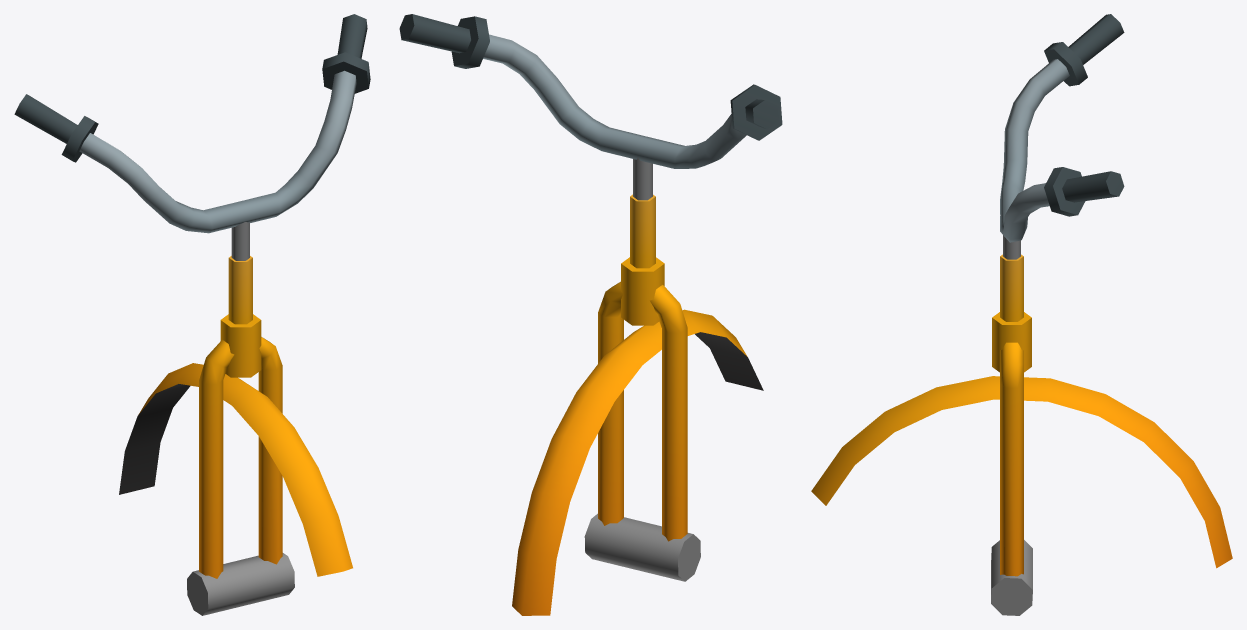
The model's file is Bicycle_Handlebar_01.fbx.
3 views of the same model, side by side, from view 1: azimuth 30°, elevation 25°; view 2: azimuth 150°, elevation 25°; view 3: azimuth 270°, elevation 25° (orthographic). The views are drawn at different scales.
Visible parts, largest first — view 1: Bicycle_Handlebar_01; view 2: Bicycle_Handlebar_01; view 3: Bicycle_Handlebar_01.
Boxes of the visible parts, bbox=[...] form: Bicycle_Handlebar_01: bbox=[14, 14, 370, 615]; Bicycle_Handlebar_01: bbox=[399, 14, 782, 615]; Bicycle_Handlebar_01: bbox=[811, 14, 1232, 615].
Size of the model in its own units: 73.61 by 77.49 by 102.
